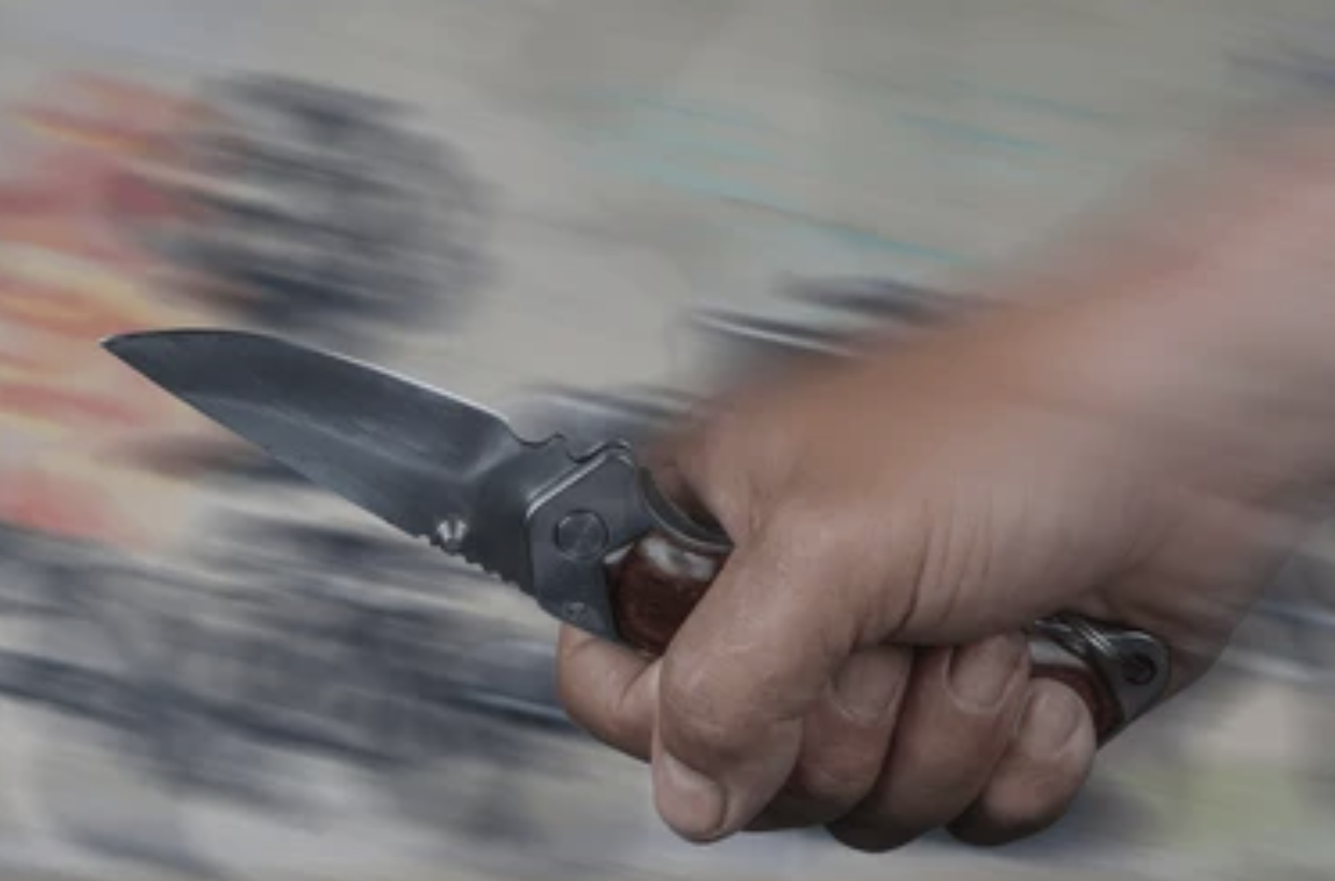knife_51.png: (83, 308, 1180, 761)
